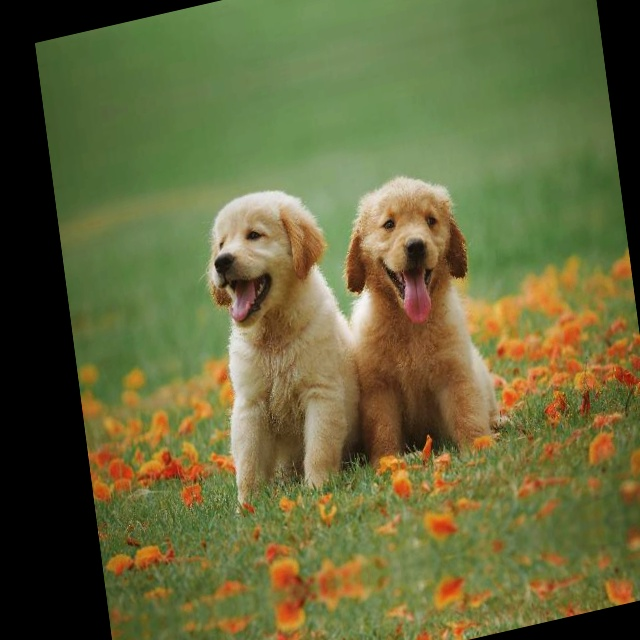dog: (178, 163, 369, 521), (329, 129, 508, 479)
